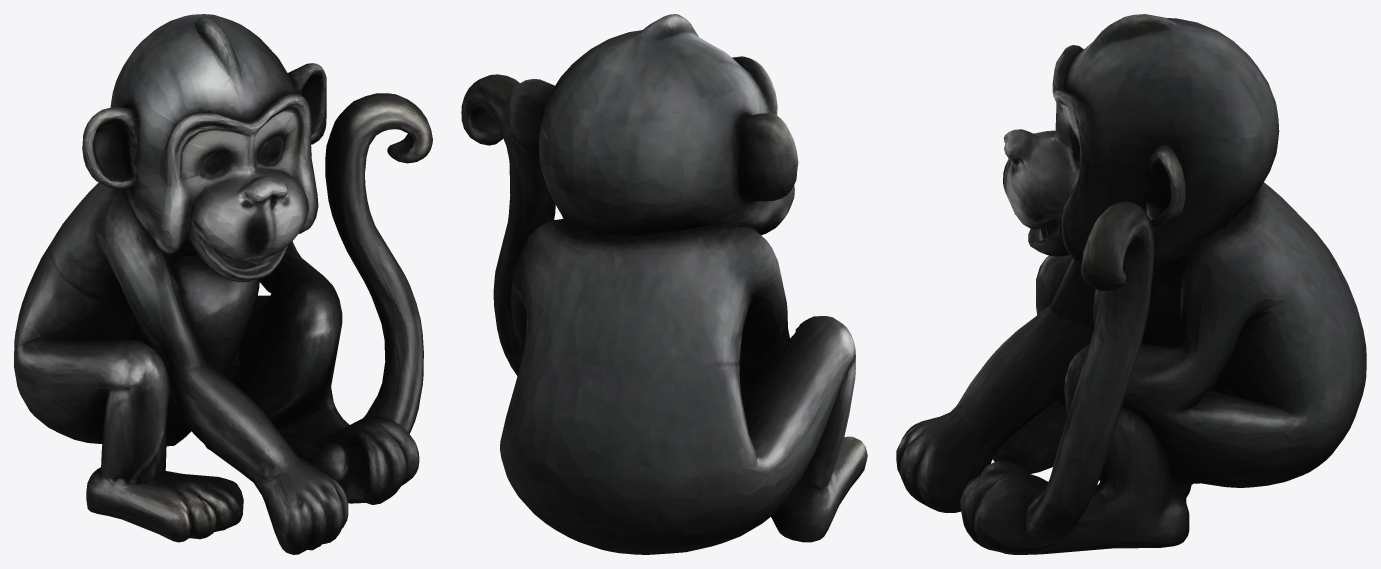
File: gorilla.glb
3 renders of one model, left to right at view 1: azimuth 30°, elevation 25°; view 2: azimuth 150°, elevation 25°; view 3: azimuth 270°, elevation 25°, orthographic. The views are drawn at different scales.
Parts seen in each view (by area): view 1: world; view 2: world; view 3: world.
Boxes of the visible parts, left/top/right/bottom form: world: left=14, top=14, right=432, bottom=554; world: left=461, top=14, right=867, bottom=554; world: left=896, top=14, right=1366, bottom=554.
Bounding box in the file's own units: 0.8018 × 0.9994 × 0.8691.
Materials: 1 (1 with a texture image).
